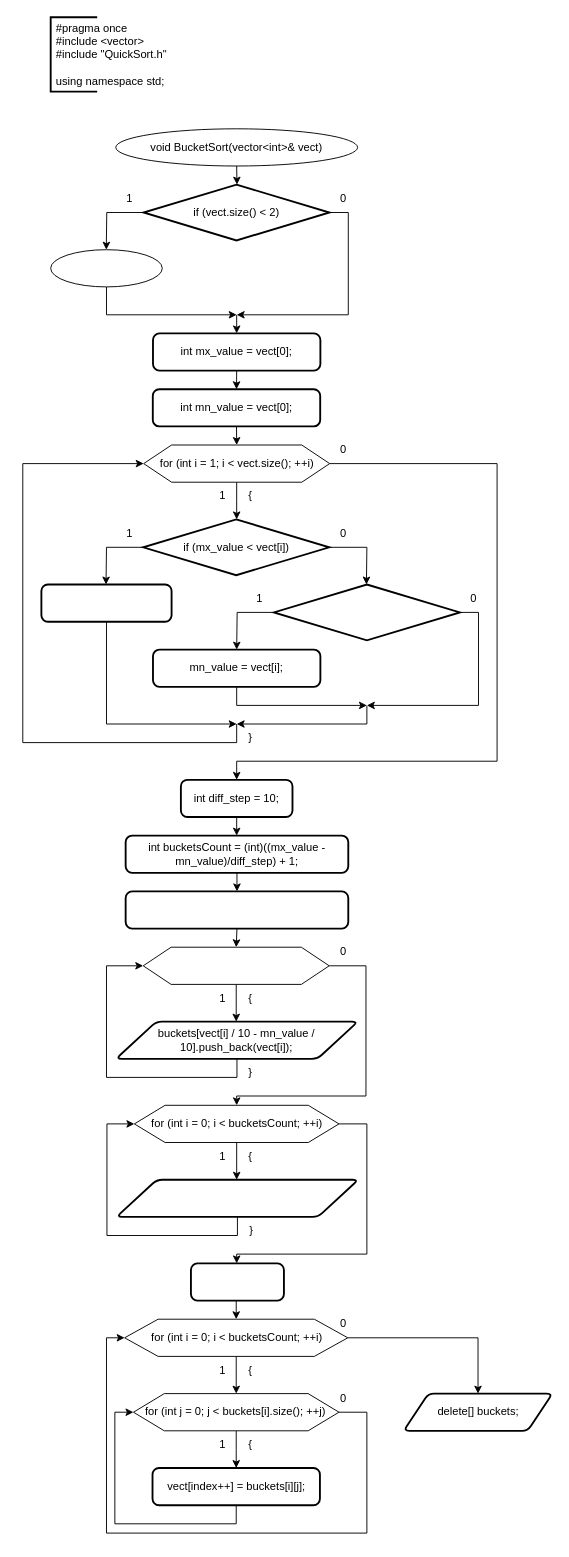
Image size: 569x1557. Some labels were removed from this diagram. Here are the shapes that lost their labels. From the top down, the centre of each, then its label:
At pixel 106 268: "return;".
At pixel 106 602: "mx_value = vect[i];".
At pixel 366 612: "if (mn_value > vect[i])".
At pixel 236 909: "vector<int>* buckets = new vector<int>[bucketsCount] {};".
At pixel 235 965: "for (int i = 0; i < vect.size(); ++i)".
At pixel 237 1197: "QuickSort(buckets[i]);".
At pixel 237 1281: "int index = 0;".
